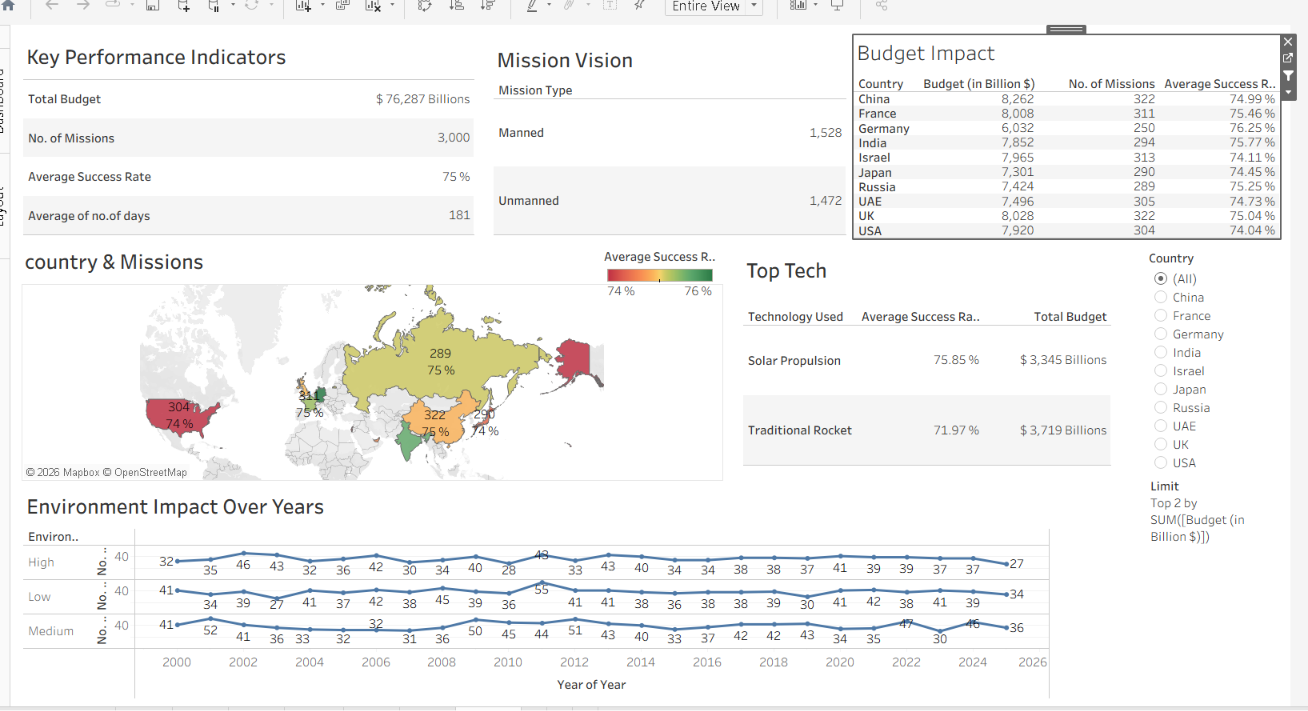

The dashboard page shown, as its layout file describes it:
{"tool":"tableau","page":{"name":"Canvas","canvas":[1600,900],"ordinal":0},"visuals":[{"type":"worksheet","title":"Visual 3","mark":"Automatic","rows":["Country"],"box":[1054,13,533,254]},{"type":"worksheet","title":"Visual 1","mark":"Automatic","box":[16,18,564,245]},{"type":"worksheet","title":"Visual 5","mark":"Automatic","rows":["Mission Type"],"box":[604,22,441,241]},{"type":"worksheet","title":"Visual 2","mark":"Multipolygon","box":[14,274,877,296]},{"type":"legend","title":"Visual 2","param":"[federated.0b3gpzg04ntul415vl4cr1uar100].[usr:Calculation_1219426168475650:qk]","box":[742,279,140,88]},{"type":"filter","title":" Visual 4","param":"[federated.0b3gpzg04ntul415vl4cr1uar100].[none:Country:nk]","box":[1423,281,160,373]},{"type":"worksheet","title":" Visual 4","mark":"Automatic","rows":["Technology Used"],"box":[916,285,460,266]},{"type":"worksheet","title":"Visual 6","mark":"Automatic","rows":["Environmental Impact","Calculation_1219426168164353"],"cols":["Year"],"box":[16,580,1283,263]}]}

Visuals, with their boxes on the page's 1600x900 design canvas (x1, y1, x2, y2). These are canvas units, not pixel positions in the 1308x711 screenshot, which may show the page scaled, cropped or inside an application window:
"Visual 3" worksheet: 1054/13/1587/267
"Visual 1" worksheet: 16/18/580/263
"Visual 5" worksheet: 604/22/1045/263
"Visual 2" worksheet (Multipolygon marks): 14/274/891/570
"Visual 2" legend: 742/279/882/367
" Visual 4" filter: 1423/281/1583/654
" Visual 4" worksheet: 916/285/1376/551
"Visual 6" worksheet: 16/580/1299/843
